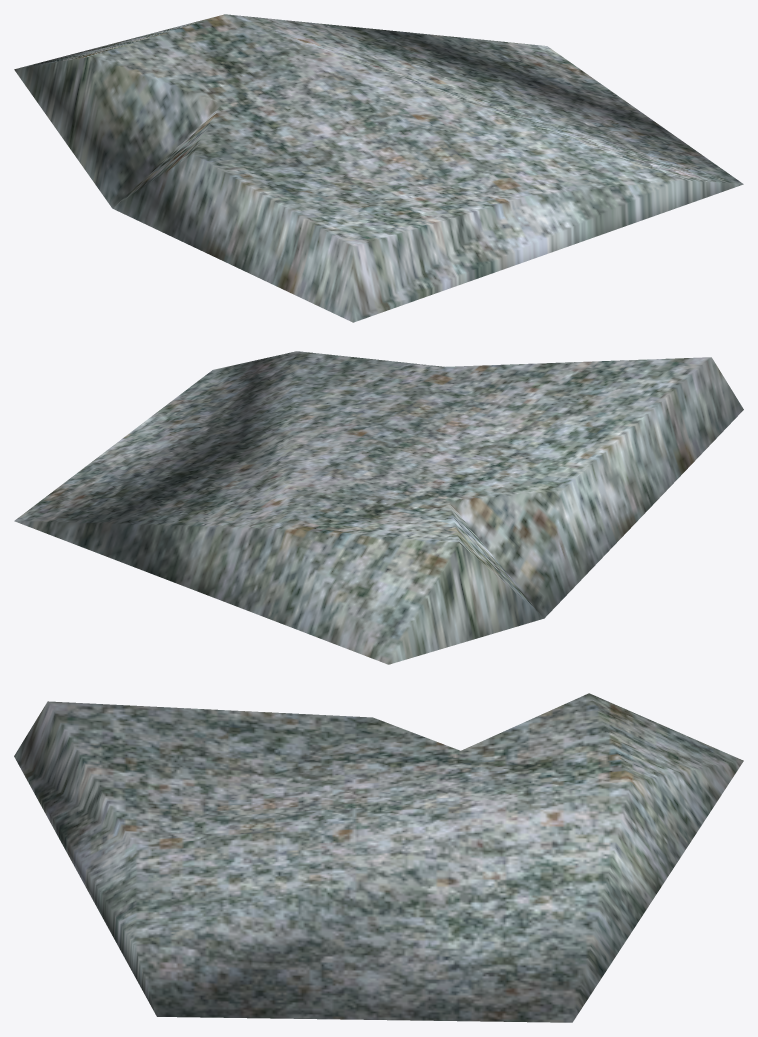
The model's file is rock_graniteslab_small_a1_l2.fbx.
The picture shows the model from 3 angles, top to bottom: view 1: azimuth 30°, elevation 25°; view 2: azimuth 150°, elevation 25°; view 3: azimuth 270°, elevation 25°; orthographic projection. The views are drawn at different scales.
Visible parts, largest first — view 1: mesh_node; view 2: mesh_node; view 3: mesh_node.
Part boxes in pixels (x1,y1,x2,y2): mesh_node: [14, 14, 743, 322]; mesh_node: [14, 351, 743, 664]; mesh_node: [14, 693, 743, 1022].
Bounding box in the file's own units: 0.7927 × 0.1661 × 0.9883.
